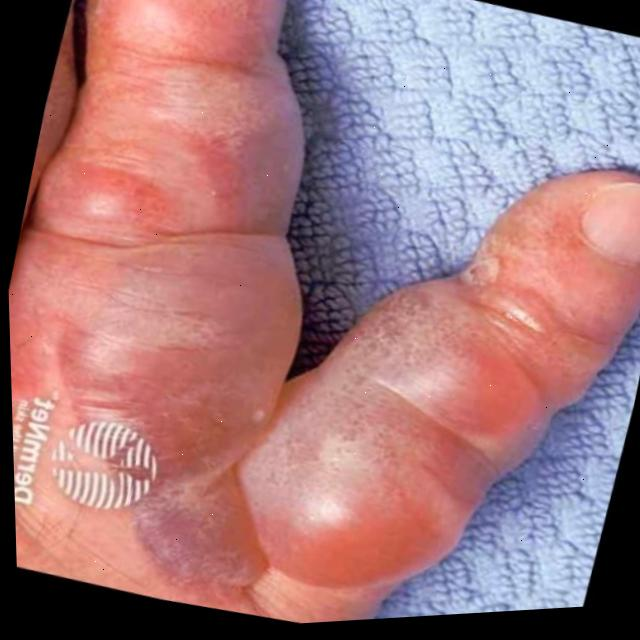Eczema: (5, 36, 638, 627)
